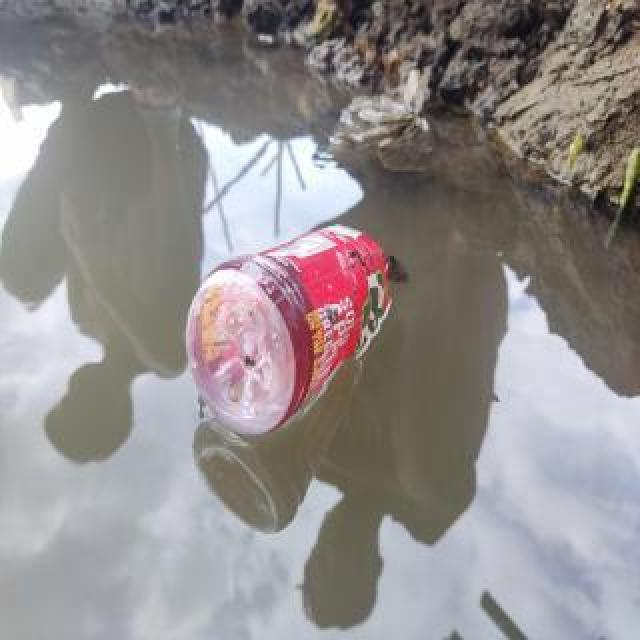bottle: (180, 215, 396, 443)
